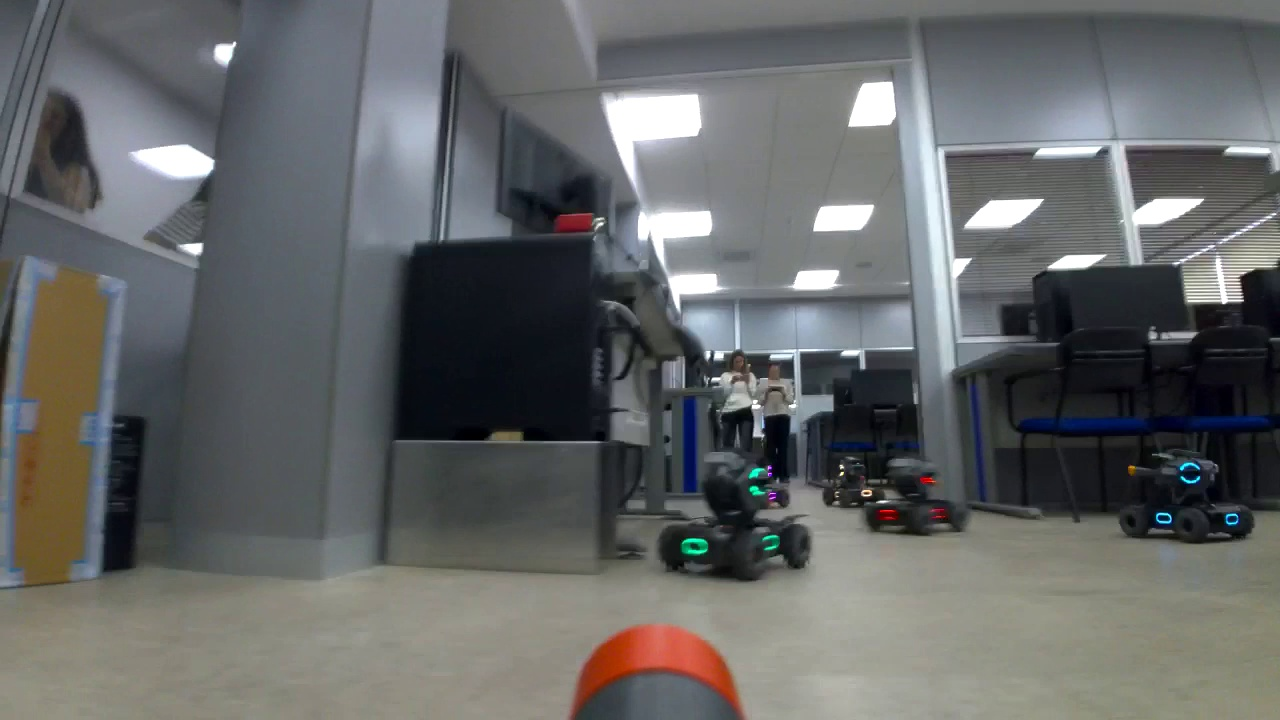robot: (656, 445, 809, 587), (1114, 449, 1258, 548), (864, 457, 972, 539), (821, 456, 886, 509)
